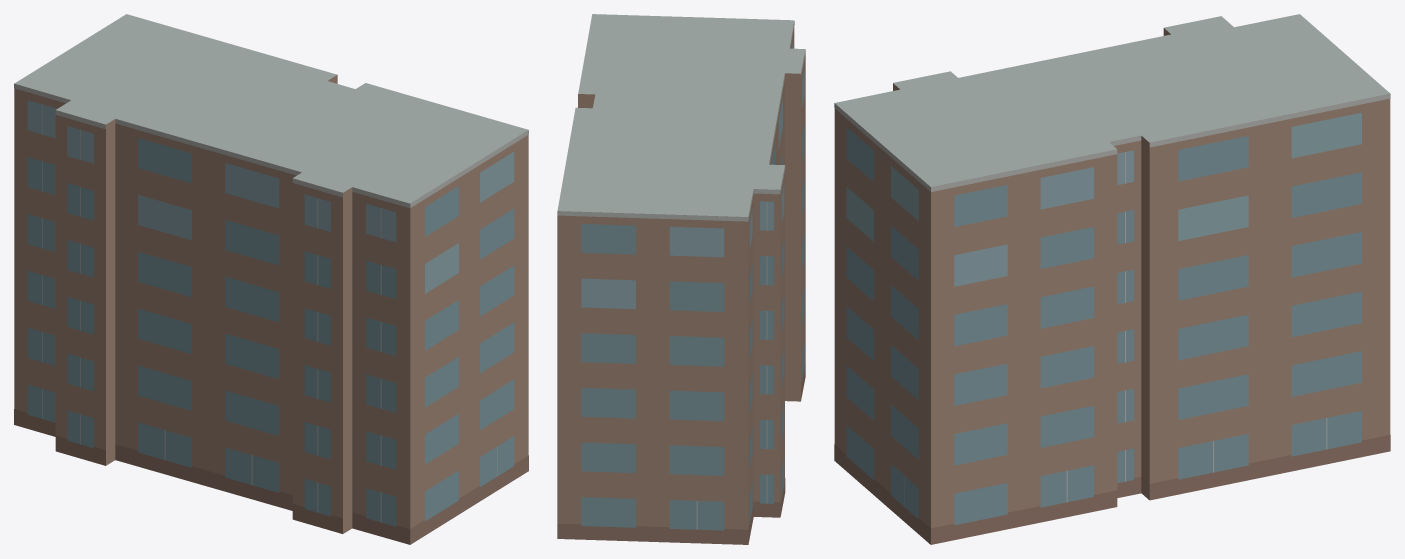
The model's file is survey-upis-32745171.glb.
3 views of the same model, side by side, from view 1: azimuth 30°, elevation 25°; view 2: azimuth 150°, elevation 25°; view 3: azimuth 270°, elevation 25° (orthographic). The views are drawn at different scales.
Visible parts, largest first — view 1: survey-upis-32745171.tmp; view 2: survey-upis-32745171.tmp; view 3: survey-upis-32745171.tmp.
Part boxes in pixels (x1,y1,x2,y2): survey-upis-32745171.tmp: (14,14,528,544); survey-upis-32745171.tmp: (557,14,805,544); survey-upis-32745171.tmp: (834,14,1390,544).
Size of the model in its own units: 18.38 by 17.7 by 24.94.
